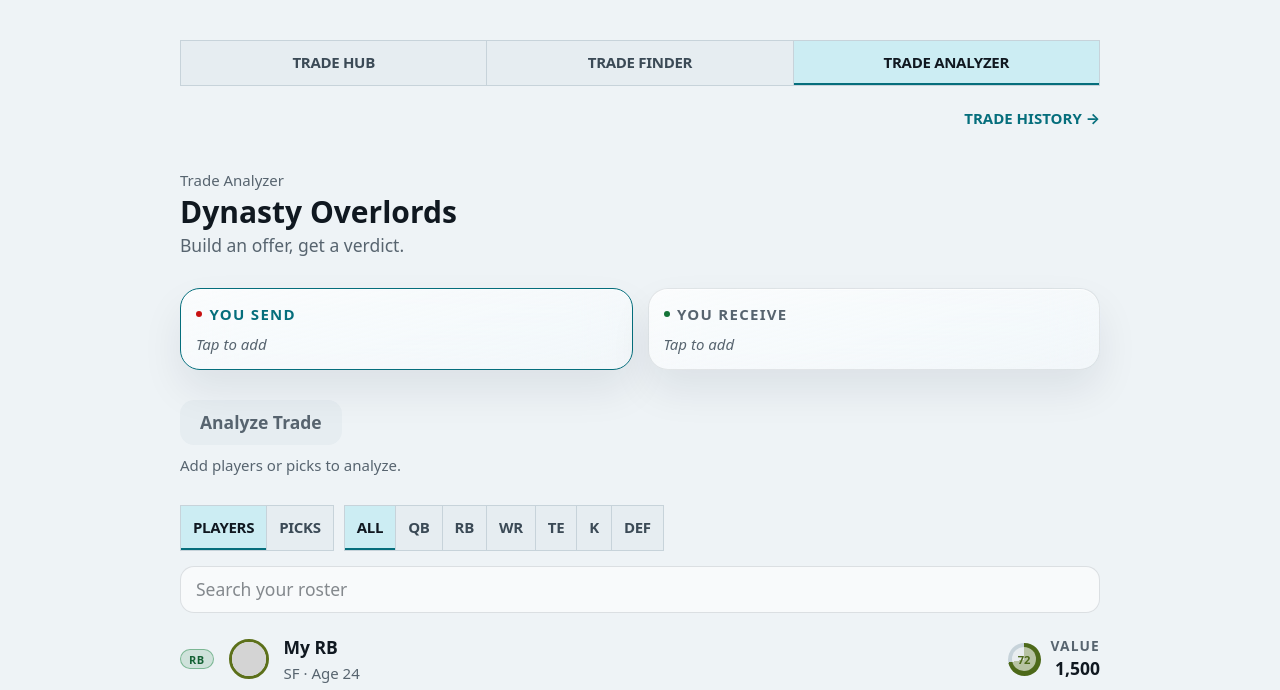
Test: TradeAnalyzerContent › shows the posture chip and the trade-off for a value win that costs a contender its lineup
Click the text "My RB": (311, 647) [284,635,338,659]
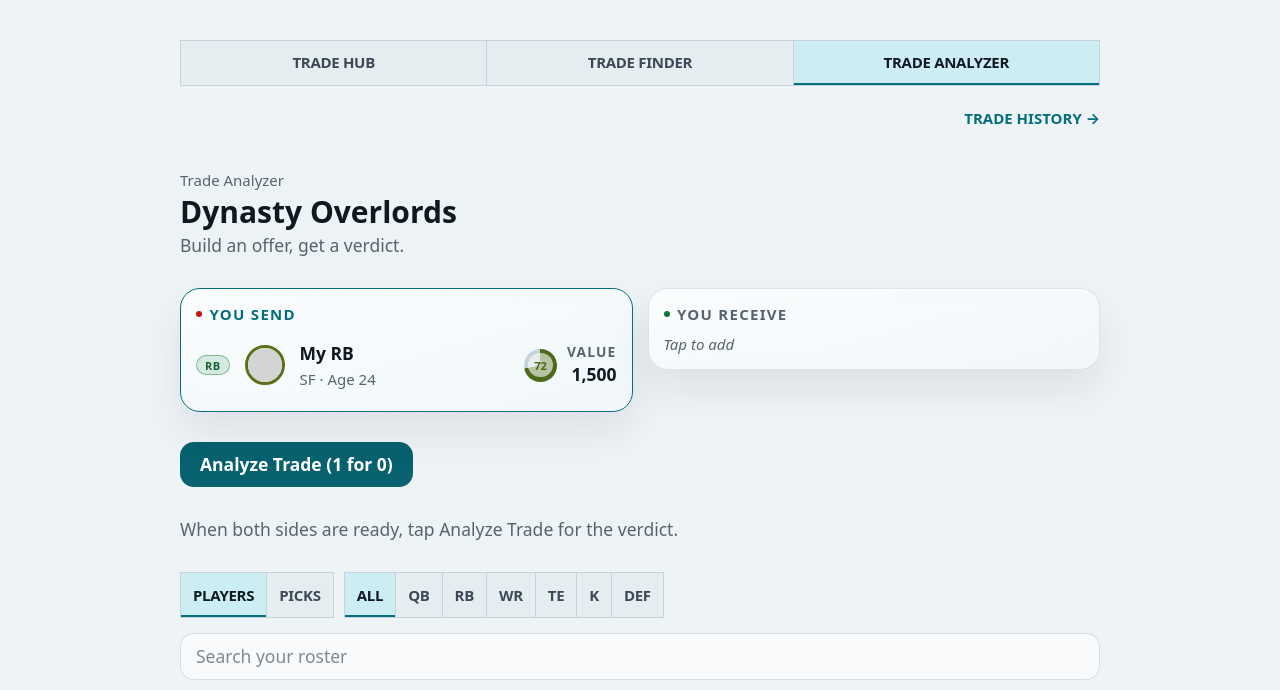
Click the button "You receive": (726, 314) [664,304,788,324]
(page scrolled)
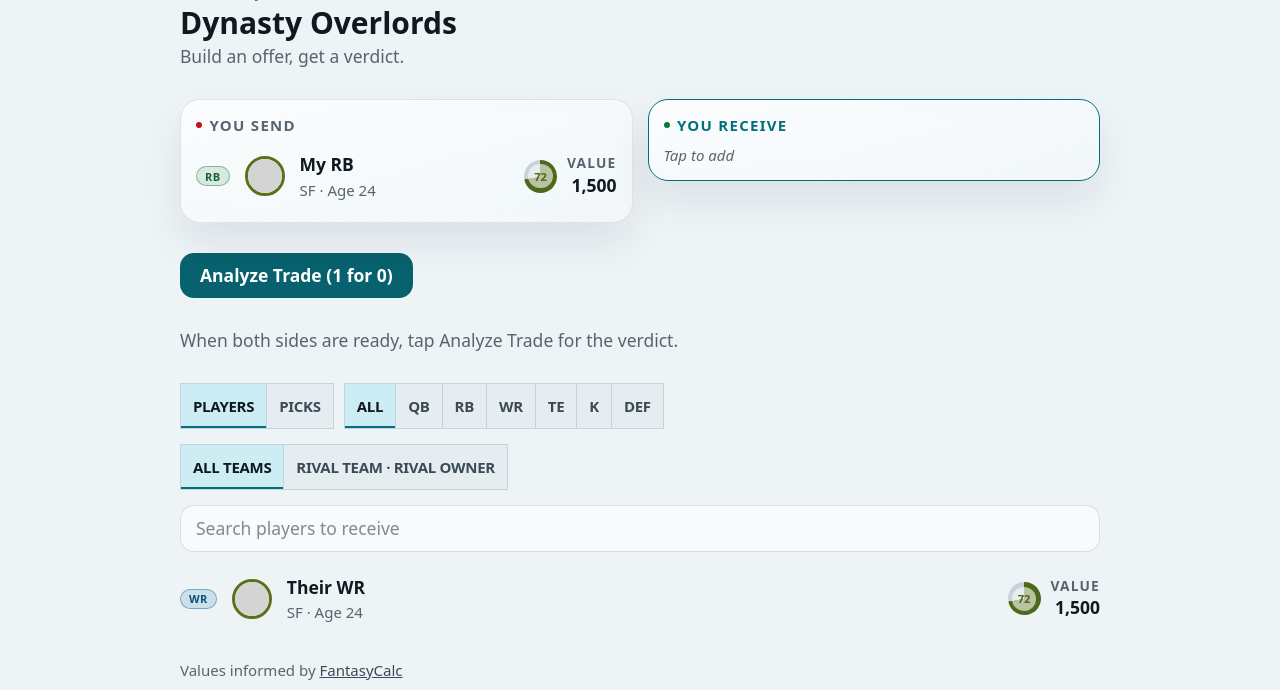
Click the text "Their WR": (326, 588) [287,575,365,600]
(page scrolled)
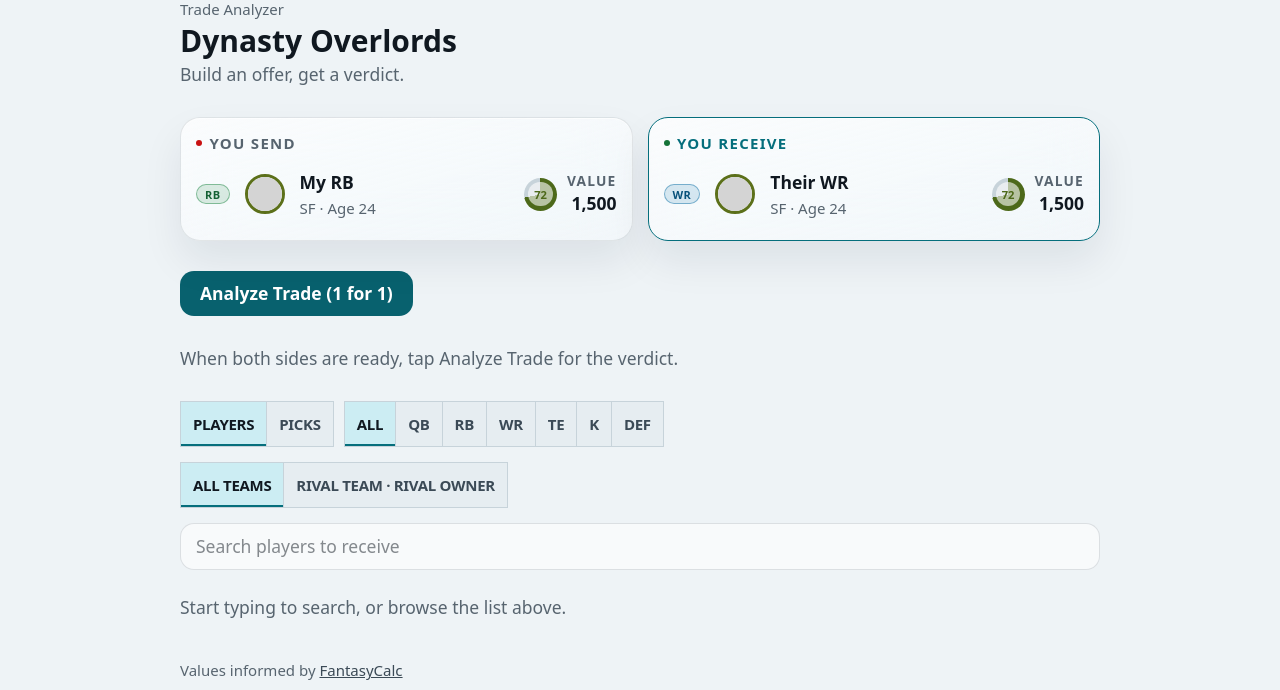
Click the button "Analyze Trade (1 for 1)": (296, 294) [180,272,413,316]
(page scrolled)
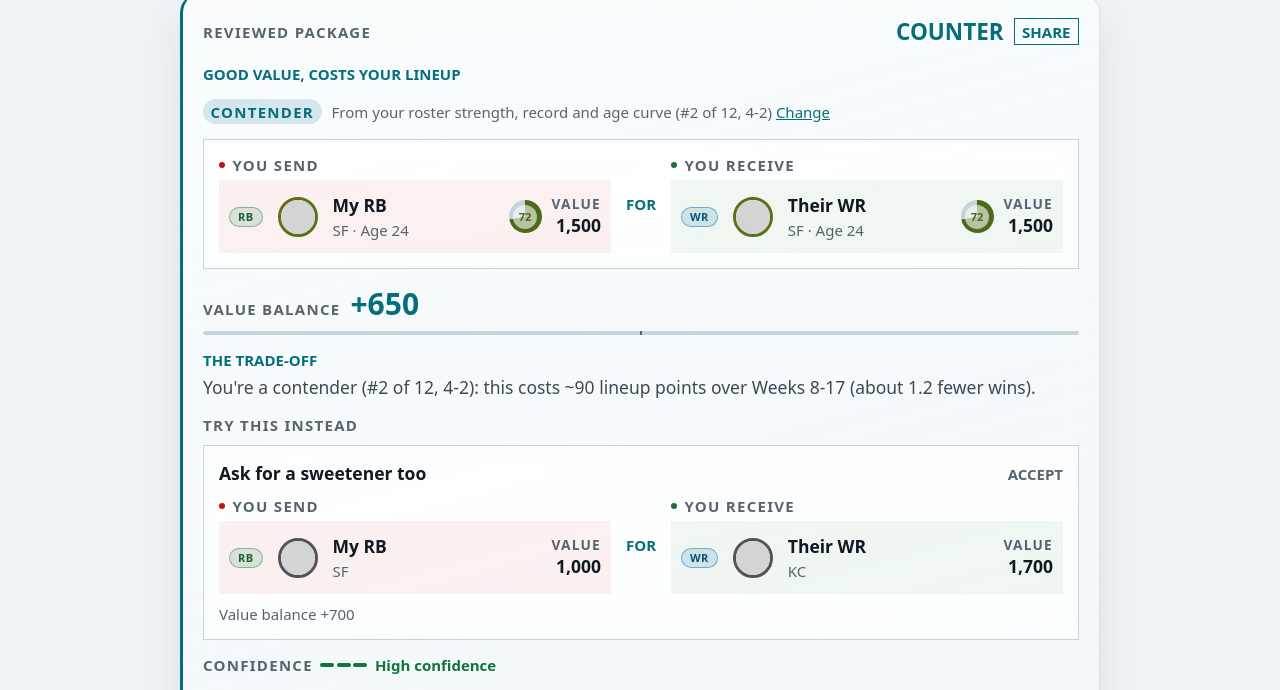
expect the element with test id "posture-chip" shows "Contender": met, box [210,102,314,122]
expect the element with test id "posture-chip" shows "#2 of 12, 4-2": met, box [332,102,772,122]
expect the text "GOOD VALUE, COSTS YOUR LINEUP" is shown: met, box [203,64,461,84]
